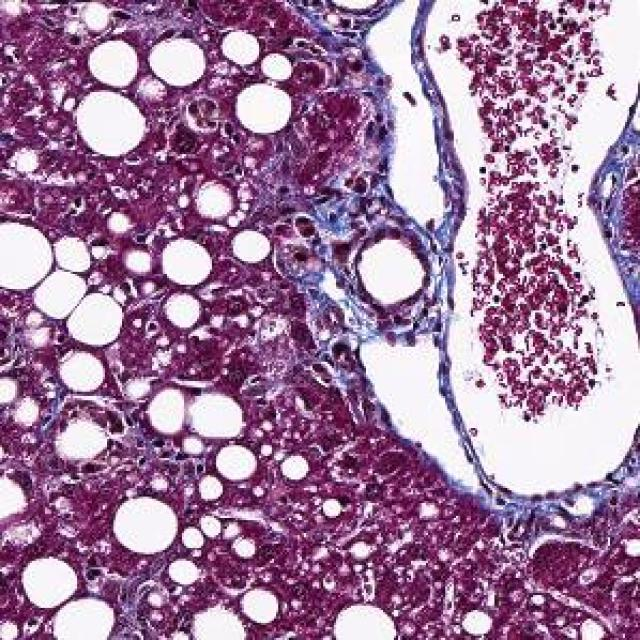fibrosis: (306, 206, 355, 323)
